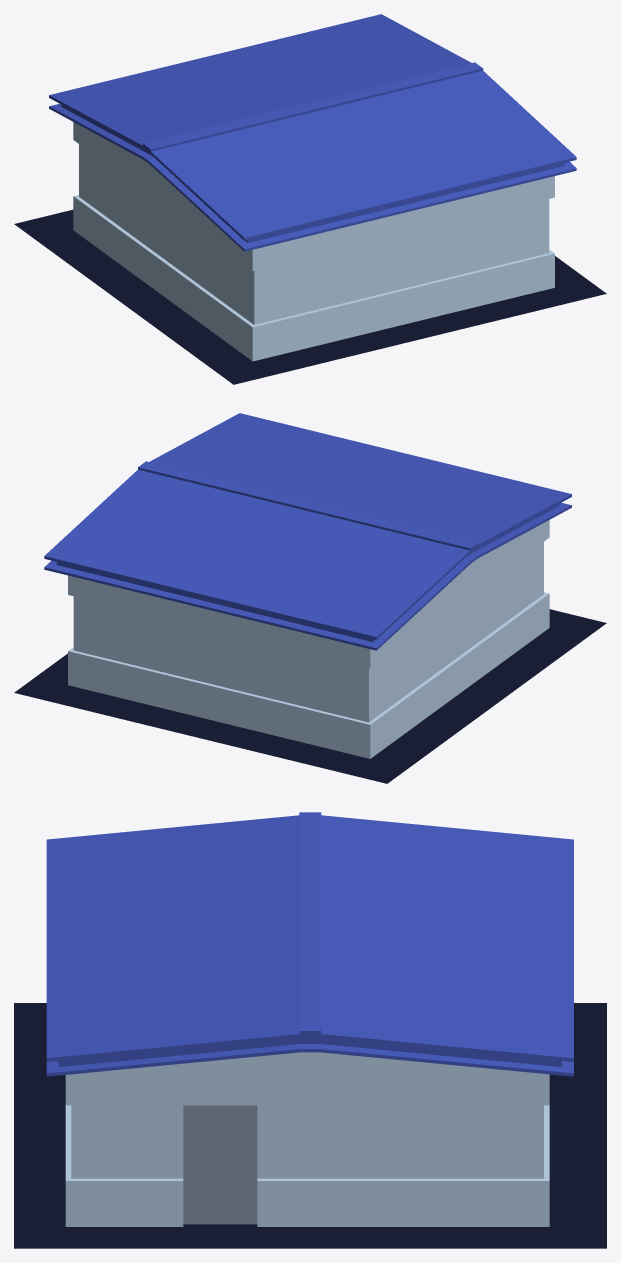
3 renders of one model, top to bottom at view 1: azimuth 30°, elevation 25°; view 2: azimuth 150°, elevation 25°; view 3: azimuth 270°, elevation 25°, orthographic. The views are drawn at different scales.
Parts seen in each view (by area): view 1: 平面; view 2: 平面; view 3: 平面.
Boxes of the visible parts, x1,y1,x2,y2 form: 平面: [14, 14, 606, 384]; 平面: [14, 413, 606, 783]; 平面: [14, 812, 606, 1248].
Bounding box in the file's own units: 659 × 257 × 672.
